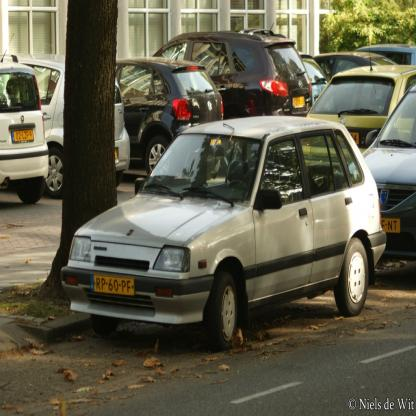Car: (1, 23, 416, 350)
